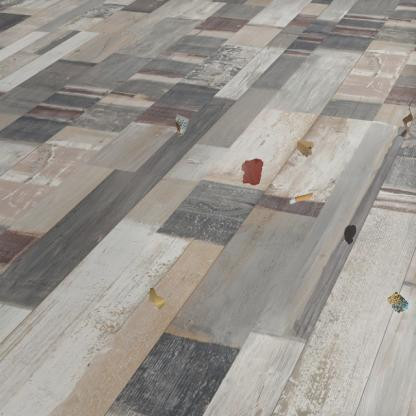dirty: (383, 290, 411, 316), (396, 106, 416, 138), (147, 286, 168, 311), (295, 138, 316, 160), (174, 113, 191, 137), (287, 191, 313, 206)
liquid: (240, 158, 264, 186), (341, 224, 358, 246)
